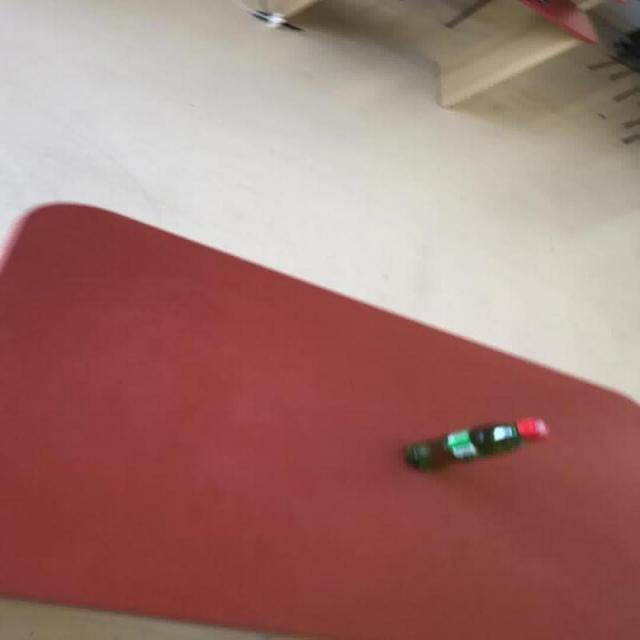Guarana: (403, 416, 549, 471)
